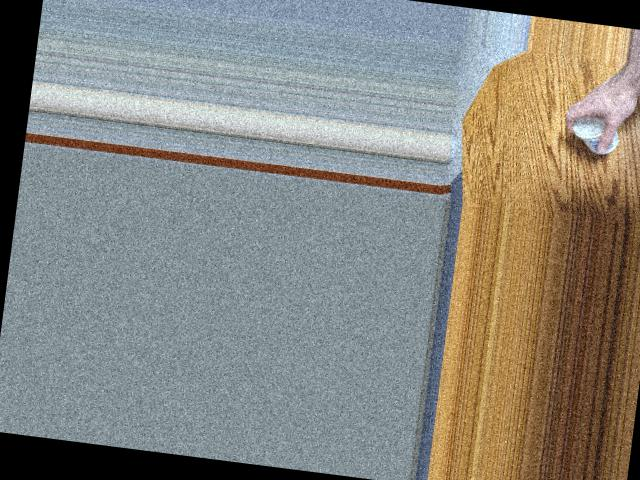cotage: (561, 115, 623, 157)
